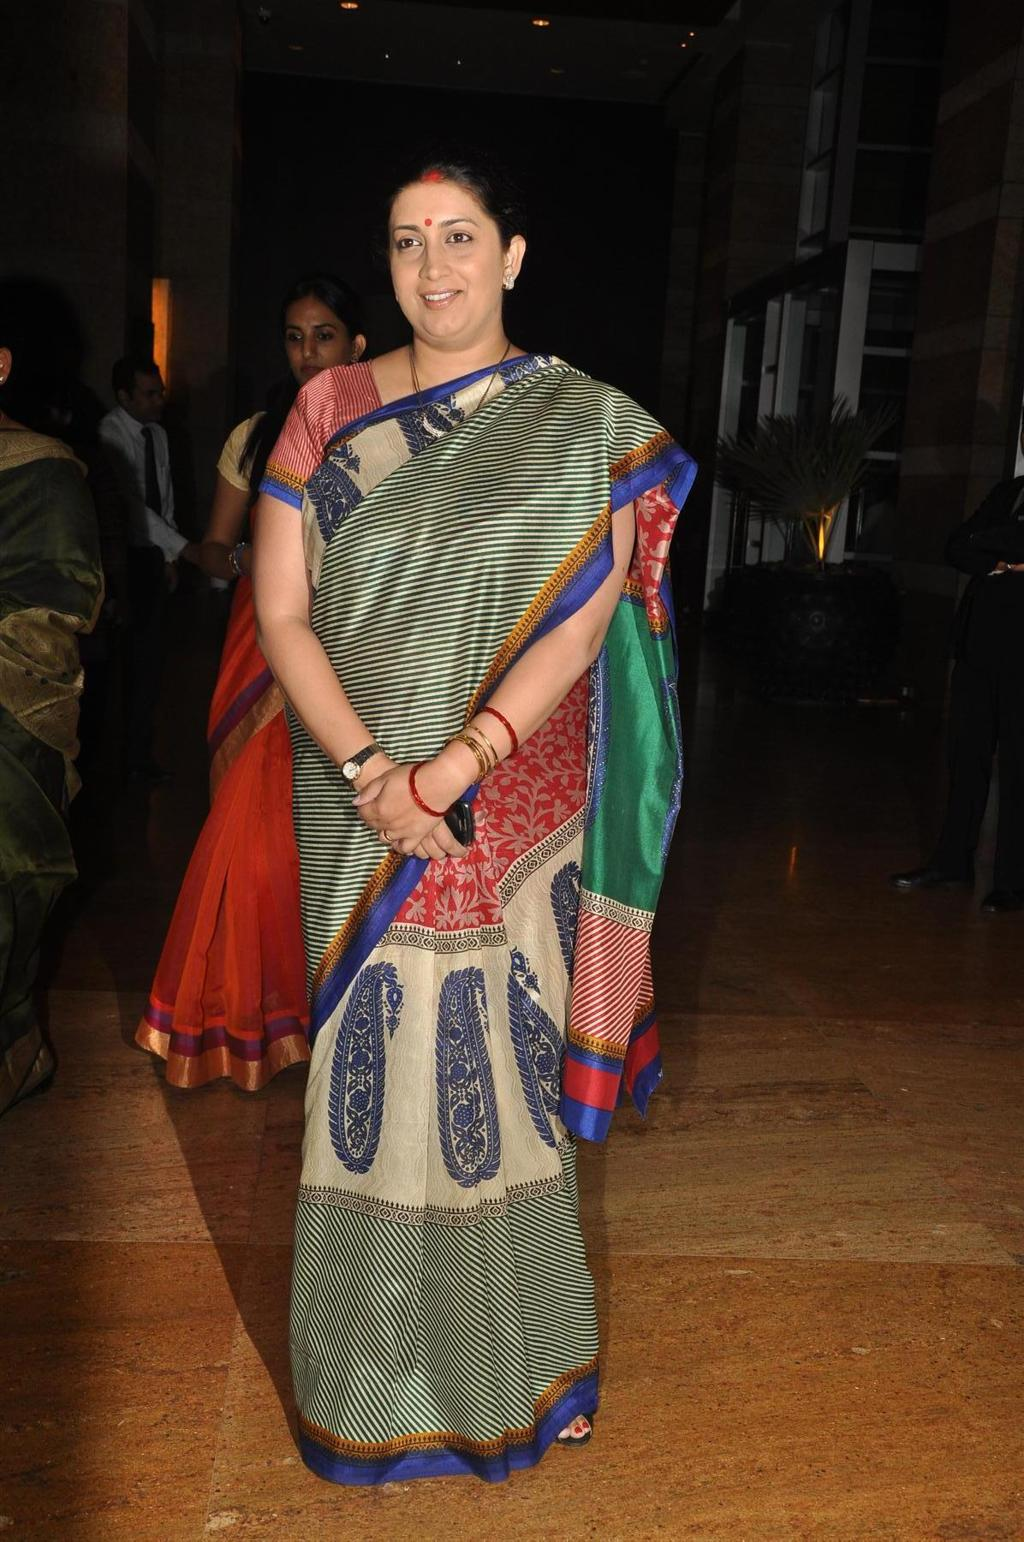face: (388, 192, 500, 340), (286, 300, 352, 390), (131, 374, 164, 421)
